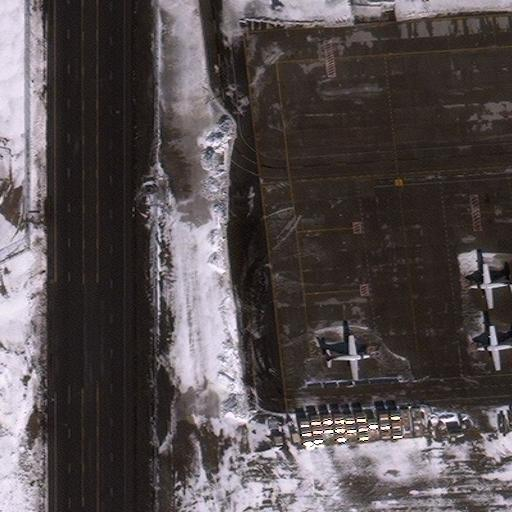Medium Civil Transport: (326, 335, 369, 379), (470, 265, 512, 309), (478, 325, 512, 372)
